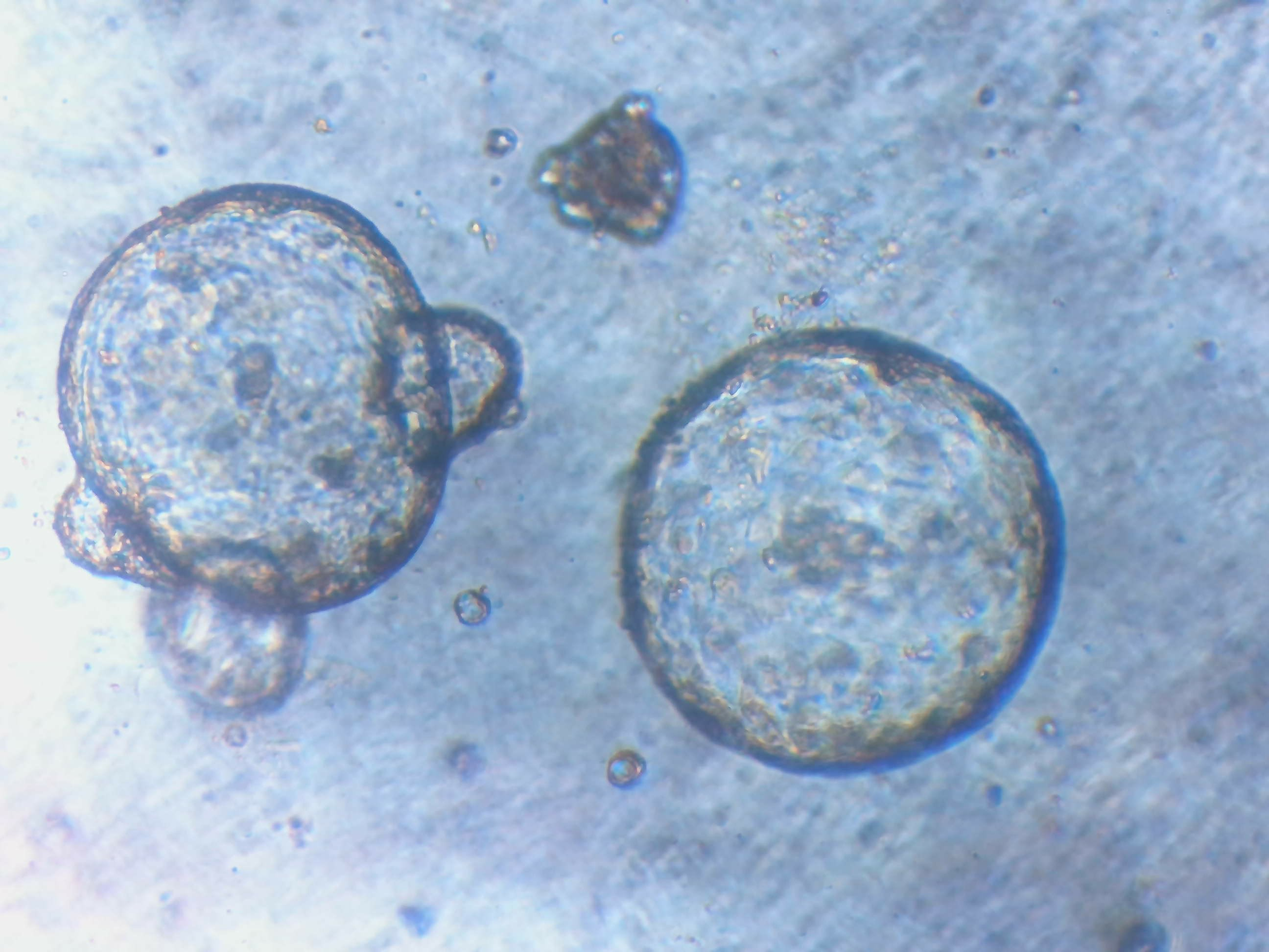organoid: (70, 176, 515, 718), (621, 333, 1066, 781), (564, 119, 695, 243)
